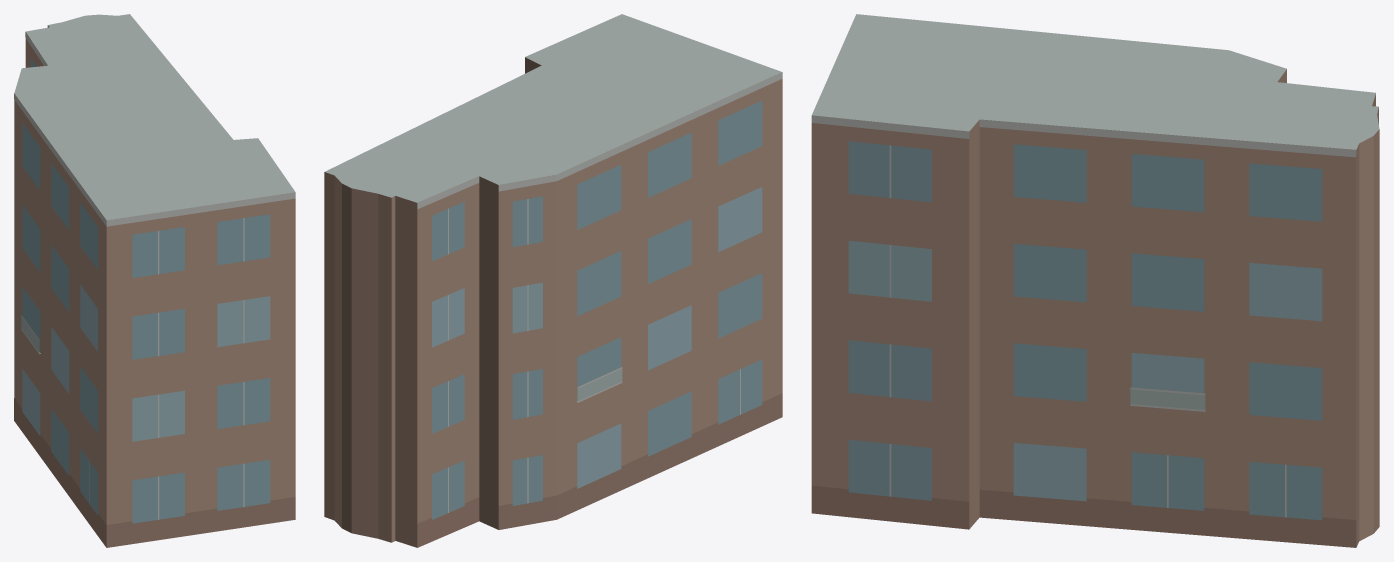
The model's file is survey-upis-33012002.glb.
3 views of the same model, side by side, from view 1: azimuth 30°, elevation 25°; view 2: azimuth 150°, elevation 25°; view 3: azimuth 270°, elevation 25° (orthographic). The views are drawn at different scales.
Visible parts, largest first — view 1: survey-upis-33012002.tmp; view 2: survey-upis-33012002.tmp; view 3: survey-upis-33012002.tmp.
Boxes of the visible parts, x1,y1,x2,y2 form: survey-upis-33012002.tmp: (14, 14, 295, 547); survey-upis-33012002.tmp: (324, 14, 782, 547); survey-upis-33012002.tmp: (811, 14, 1379, 547).
Bounding box in the file's own units: 9.38 × 12.8 × 16.56.
